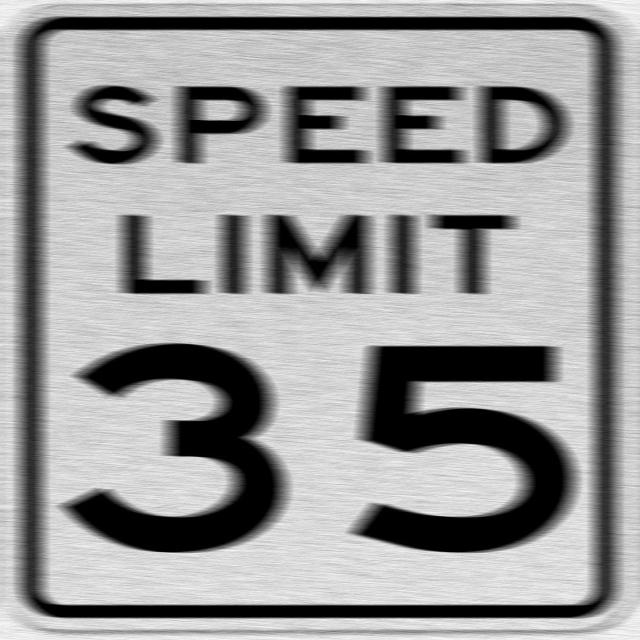speedLimit35: (7, 4, 639, 633)
